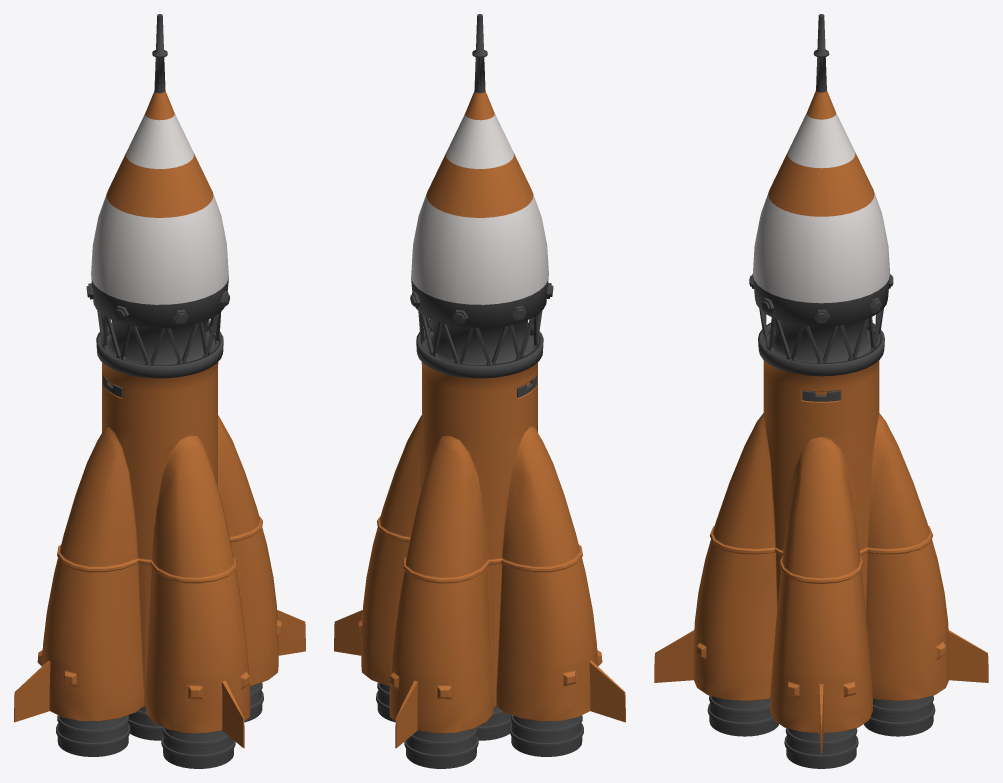
The model's file is Rocket.fbx.
3 renders of one model, left to right at view 1: azimuth 30°, elevation 25°; view 2: azimuth 150°, elevation 25°; view 3: azimuth 270°, elevation 25°, orthographic.
Parts seen in each view (by area): view 1: Cylinder.005, Cylinder, Cylinder.007, Cylinder.009, Cylinder.008, Circle; view 2: Cylinder.005, Cylinder, Cylinder.007, Cylinder.009, Cylinder.008, Circle; view 3: Cylinder.005, Cylinder, Cylinder.007, Cylinder.009, Circle.
Boxes of the visible parts, x1,y1,x2,y2 form: Cylinder.005: (37,14,282,733); Cylinder: (56,682,263,768); Cylinder.007: (14,610,305,748); Cylinder.009: (97,310,220,365); Cylinder.008: (128,706,163,740); Circle: (86,283,229,324); Cylinder.005: (357,14,602,733); Cylinder: (376,682,583,768); Cylinder.007: (334,610,625,748); Cylinder.009: (418,311,542,365); Cylinder.008: (476,706,511,740); Circle: (410,283,553,324); Cylinder.005: (693,14,949,733); Cylinder: (707,695,935,768); Cylinder.007: (654,630,988,753); Cylinder.009: (759,308,883,363); Circle: (749,274,893,323).
Bounding box in the file's own units: 721 × 1681 × 721.
